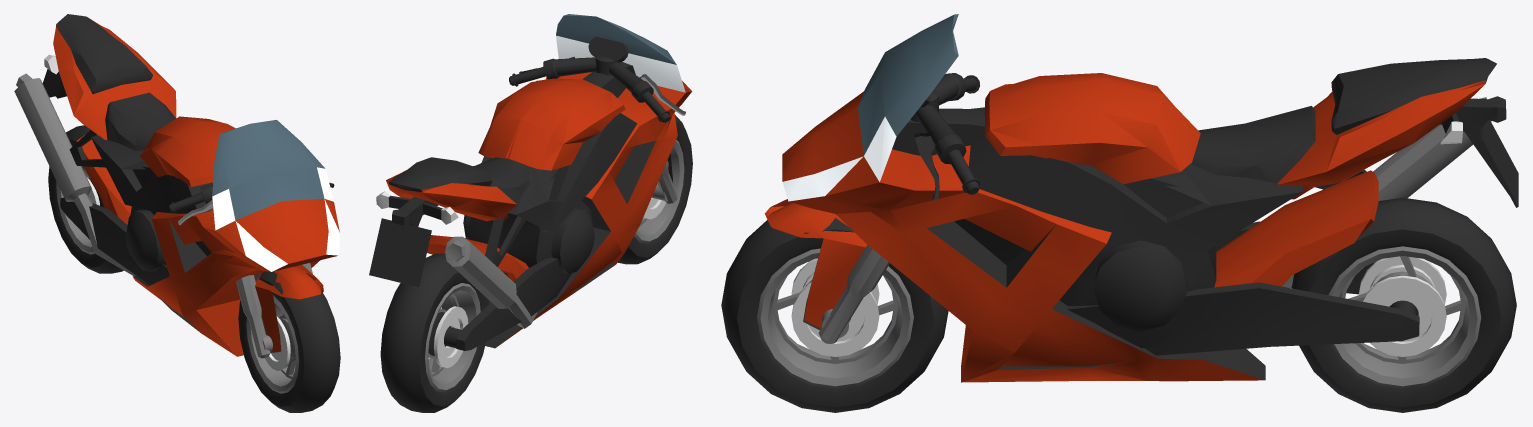
Rendered from street-motorcycle.glb.
3 views of the same model, side by side, from view 1: azimuth 30°, elevation 25°; view 2: azimuth 150°, elevation 25°; view 3: azimuth 270°, elevation 25° (orthographic). The views are drawn at different scales.
Visible parts, largest first — view 1: motorcycle-part-10, motorcycle-part-14, motorcycle-part-0, motorcycle-part-16, motorcycle-part-18, motorcycle-part-22, motorcycle-part-28, motorcycle-part-17, motorcycle-part-1, motorcycle-part-13, motorcycle-part-19, motorcycle-part-23 (+5 smaller); view 2: motorcycle-part-10, motorcycle-part-1, motorcycle-part-18, motorcycle-part-14, motorcycle-part-22, motorcycle-part-13, motorcycle-part-15, motorcycle-part-28, motorcycle-part-0, motorcycle-part-16, motorcycle-part-12, motorcycle-part-6 (+9 smaller); view 3: motorcycle-part-10, motorcycle-part-1, motorcycle-part-14, motorcycle-part-0, motorcycle-part-18, motorcycle-part-22, motorcycle-part-29, motorcycle-part-13, motorcycle-part-19, motorcycle-part-17, motorcycle-part-16, motorcycle-part-15 (+10 smaller).
Part boxes in pixels (left/top/right/bottom): motorcycle-part-10: left=132, top=120, right=339, bottom=356; motorcycle-part-14: left=53, top=14, right=176, bottom=150; motorcycle-part-0: left=238, top=271, right=340, bottom=412; motorcycle-part-16: left=14, top=73, right=135, bottom=275; motorcycle-part-18: left=140, top=116, right=235, bottom=186; motorcycle-part-22: left=91, top=135, right=212, bottom=213; motorcycle-part-28: left=60, top=197, right=169, bottom=285; motorcycle-part-17: left=254, top=264, right=323, bottom=352; motorcycle-part-1: left=48, top=125, right=123, bottom=273; motorcycle-part-13: left=125, top=166, right=211, bottom=271; motorcycle-part-19: left=76, top=134, right=131, bottom=224; motorcycle-part-23: left=236, top=275, right=270, bottom=358; motorcycle-part-10: left=485, top=14, right=692, bottom=348; motorcycle-part-1: left=380, top=253, right=488, bottom=412; motorcycle-part-18: left=478, top=78, right=625, bottom=170; motorcycle-part-14: left=386, top=157, right=530, bottom=221; motorcycle-part-22: left=481, top=113, right=637, bottom=232; motorcycle-part-13: left=463, top=156, right=594, bottom=286; motorcycle-part-15: left=369, top=191, right=458, bottom=287; motorcycle-part-28: left=456, top=257, right=572, bottom=350; motorcycle-part-0: left=618, top=115, right=692, bottom=264; motorcycle-part-16: left=445, top=236, right=536, bottom=328; motorcycle-part-12: left=509, top=57, right=596, bottom=86; motorcycle-part-6: left=434, top=306, right=468, bottom=367; motorcycle-part-10: left=782, top=14, right=1265, bottom=382; motorcycle-part-1: left=1291, top=197, right=1516, bottom=412; motorcycle-part-14: left=1191, top=58, right=1496, bottom=199; motorcycle-part-0: left=721, top=218, right=948, bottom=412; motorcycle-part-18: left=984, top=73, right=1200, bottom=184; motorcycle-part-22: left=968, top=137, right=1302, bottom=254; motorcycle-part-29: left=1067, top=282, right=1419, bottom=355; motorcycle-part-13: left=954, top=177, right=1216, bottom=348; motorcycle-part-19: left=1214, top=170, right=1378, bottom=287; motorcycle-part-17: left=764, top=199, right=867, bottom=330; motorcycle-part-16: left=1282, top=97, right=1491, bottom=287; motorcycle-part-15: left=1440, top=96, right=1518, bottom=207.
Bounding box in the file's own units: 0.957 × 1.5 × 2.85.
Materials: 4 (2 with a texture image).
